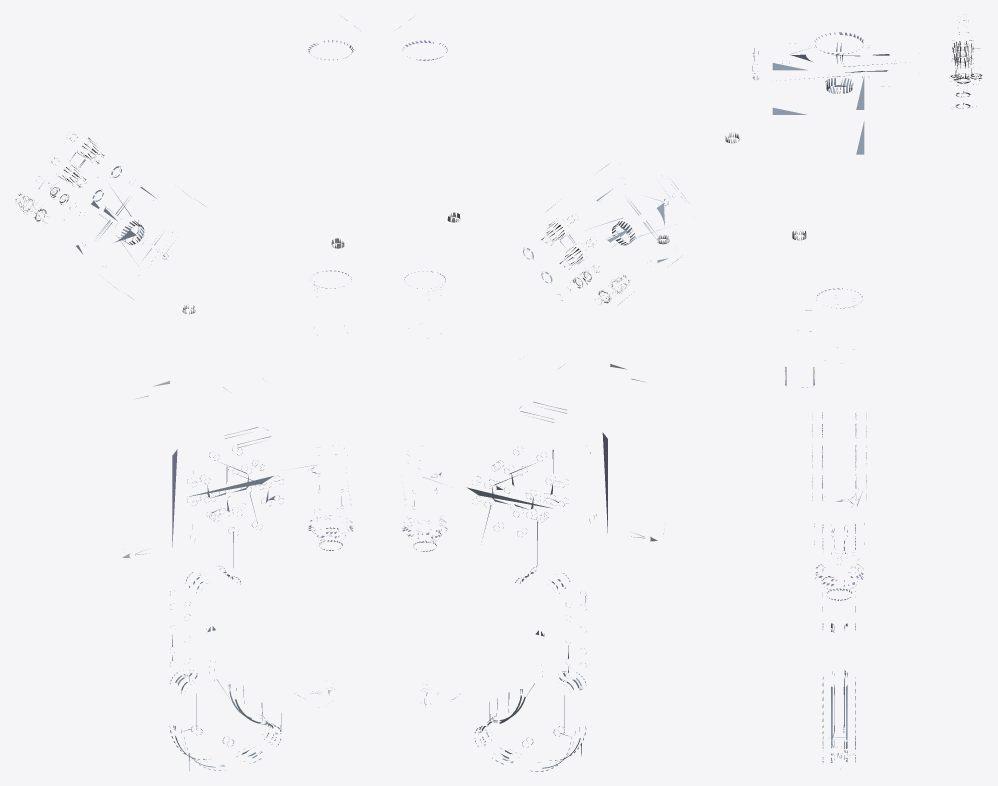
Rendered from JA01732_fester_Arm_Rep.dae.
3 views of the same model, side by side, from view 1: azimuth 30°, elevation 25°; view 2: azimuth 150°, elevation 25°; view 3: azimuth 270°, elevation 25° (orthographic). The views are drawn at different scales.
Visible parts, largest first — view 1: JA01732_fester_Arm (×2); view 2: JA01732_fester_Arm (×2); view 3: JA01732_fester_Arm (×2).
Part boxes in pixels (left/top/right/bottom): JA01732_fester_Arm (×2): left=35, top=16, right=360, bottom=770; JA01732_fester_Arm (×2): left=398, top=17, right=689, bottom=771; JA01732_fester_Arm (×2): left=752, top=32, right=979, bottom=762.
Size of the model in its own units: 539 by 389 by 1303.
